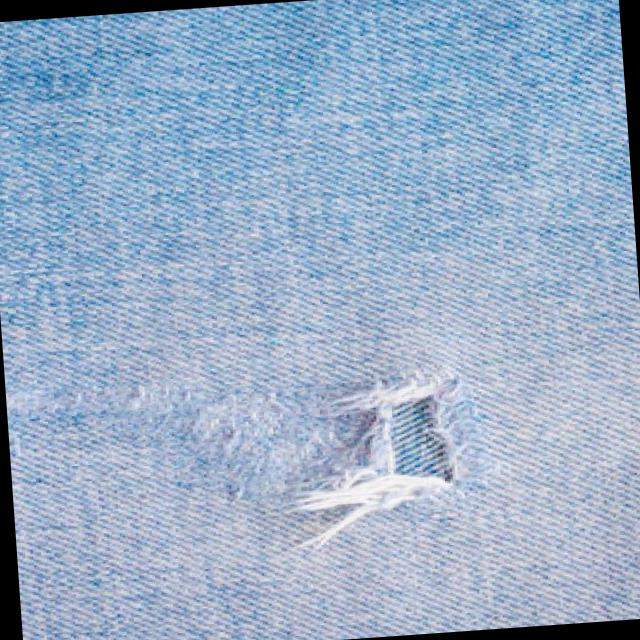Thread: (267, 464, 393, 566)
hole: (367, 368, 466, 510)
